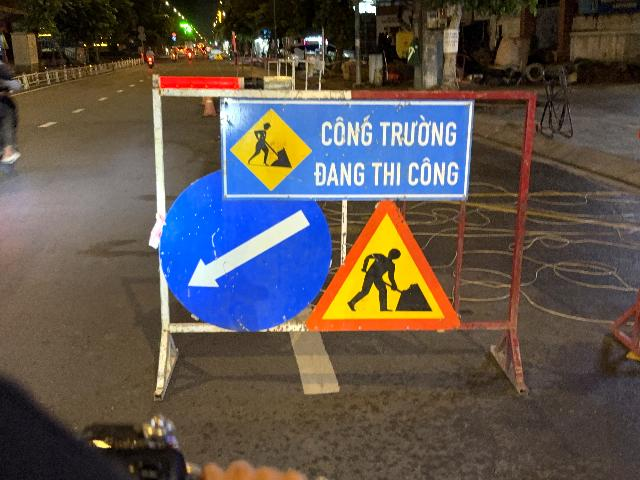cong-truong-dang-thi-cong: (306, 201, 460, 331)
huong-phai-di-vong-chuong-ngai-vat: (159, 169, 333, 332)
